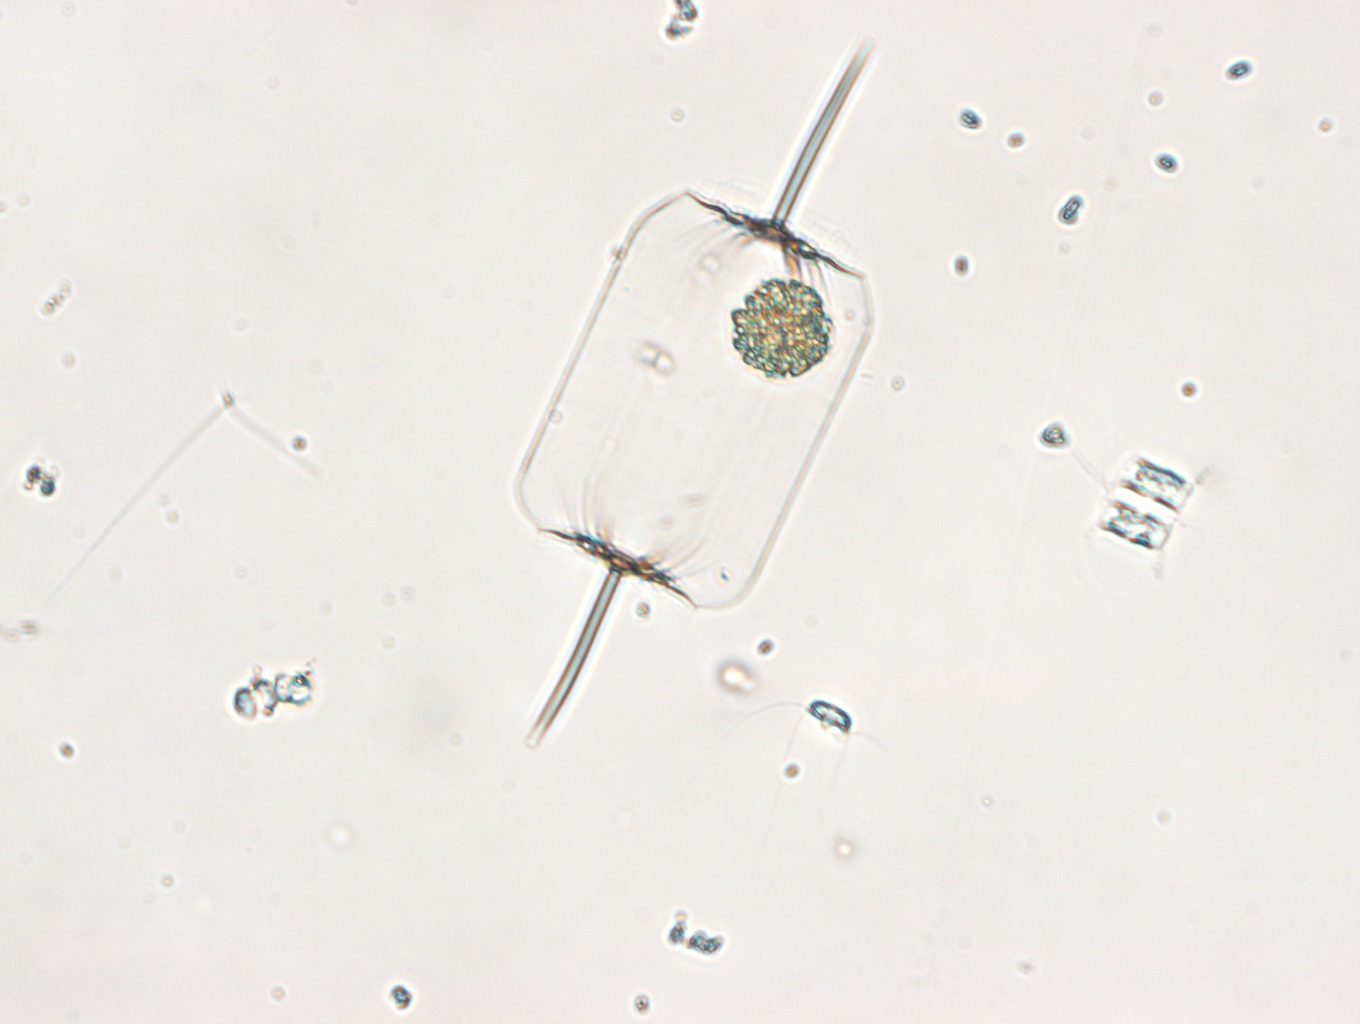chaetoceros: (1065, 450, 1207, 563)
ditylum: (510, 35, 874, 758)
